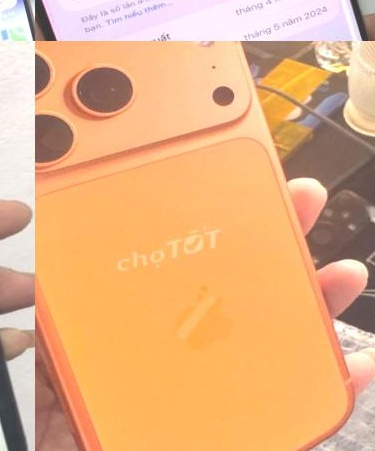screen_defect: (246, 0, 375, 41), (35, 0, 152, 41)
